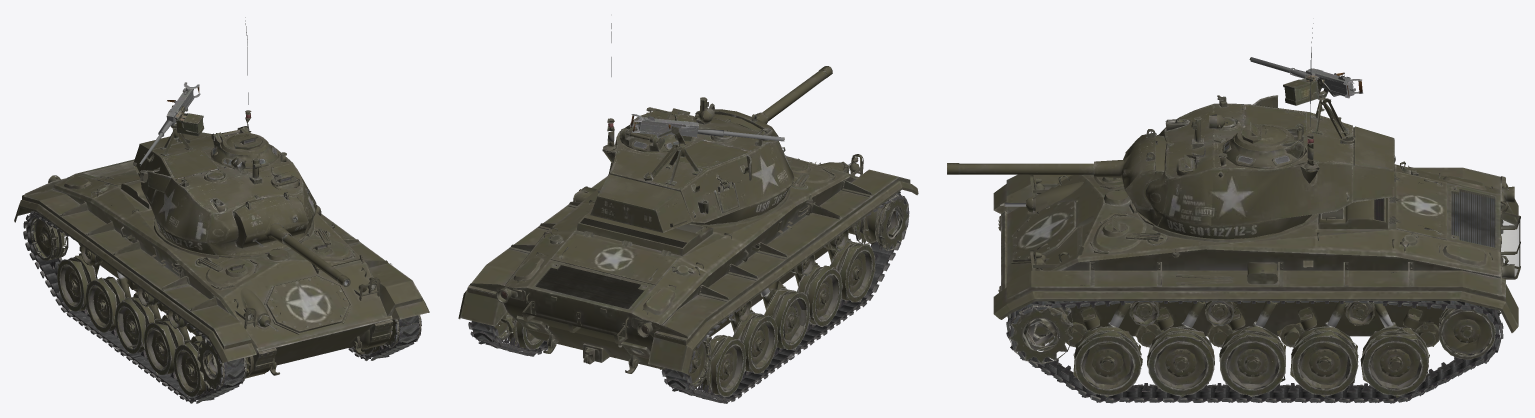
Rendered from tank-scout.glb.
3 renders of one model, left to right at view 1: azimuth 30°, elevation 25°; view 2: azimuth 150°, elevation 25°; view 3: azimuth 270°, elevation 25°, orthographic. The views are drawn at different scales.
Parts seen in each view (by area): view 1: Hull, Turret_229, Barrel_Cannon_13, Tracks_420_L, Wheel_L_05, Wheel_L_04, Wheel_L_03, Wheel_L_02, Wheel_L_00, Wheel_L_06, Wheel_L_01, Wheel_R_00 (+1 smaller); view 2: Hull, Turret_229, Tracks_420_L, Wheel_L_05, Wheel_L_01, Wheel_L_00, Wheel_L_03, Wheel_L_02, Wheel_L_04, Barrel_Cannon_13, Wheel_L_06, Gear_Hull_TrackMaterial (+3 smaller); view 3: Hull, Turret_229, Tracks_420_R, Gear_Hull_TrackMaterial, Wheel_R_01, Barrel_Cannon_13, Wheel_R_05, Wheel_R_04, Wheel_R_02, Wheel_R_03, Wheel_R_00, Wheel_R_06 (+3 smaller).
Boxes of the visible parts, box(x1,y1,x2,y2) form: Hull: box(14, 159, 429, 378); Turret_229: box(133, 17, 316, 256); Barrel_Cannon_13: box(233, 192, 350, 287); Tracks_420_L: box(30, 211, 250, 403); Wheel_L_05: box(55, 255, 97, 317); Wheel_L_04: box(85, 276, 125, 338); Wheel_L_03: box(114, 297, 155, 360); Wheel_L_02: box(143, 319, 184, 379); Wheel_L_00: box(197, 335, 246, 392); Wheel_L_06: box(23, 212, 68, 260); Wheel_L_01: box(173, 341, 214, 402); Wheel_R_00: box(384, 315, 421, 349); Hull: box(458, 154, 918, 374); Turret_229: box(590, 23, 794, 232); Tracks_420_L: box(665, 203, 895, 403); Wheel_L_05: box(699, 335, 746, 401); Wheel_L_01: box(830, 240, 879, 308); Wheel_L_00: box(854, 191, 909, 255); Wheel_L_03: box(764, 288, 810, 355); Wheel_L_02: box(797, 265, 842, 332); Wheel_L_04: box(732, 312, 778, 379); Barrel_Cannon_13: box(695, 66, 832, 136); Wheel_L_06: box(661, 336, 711, 394); Gear_Hull_TrackMaterial: box(505, 238, 850, 369); Hull: box(993, 161, 1520, 336); Turret_229: box(1135, 23, 1395, 238); Tracks_420_R: box(1032, 301, 1503, 403); Gear_Hull_TrackMaterial: box(1065, 301, 1439, 347); Wheel_R_01: box(1073, 326, 1142, 403); Barrel_Cannon_13: box(947, 129, 1157, 210); Wheel_R_05: box(1360, 326, 1429, 402); Wheel_R_04: box(1290, 326, 1358, 402); Wheel_R_02: box(1147, 326, 1214, 402); Wheel_R_03: box(1219, 326, 1286, 402); Wheel_R_00: box(1006, 301, 1073, 368); Wheel_R_06: box(1438, 302, 1500, 365).
Bounding box in the file's own units: 2.89 × 3.88 × 5.62.
Materials: 5 (5 with a texture image).
